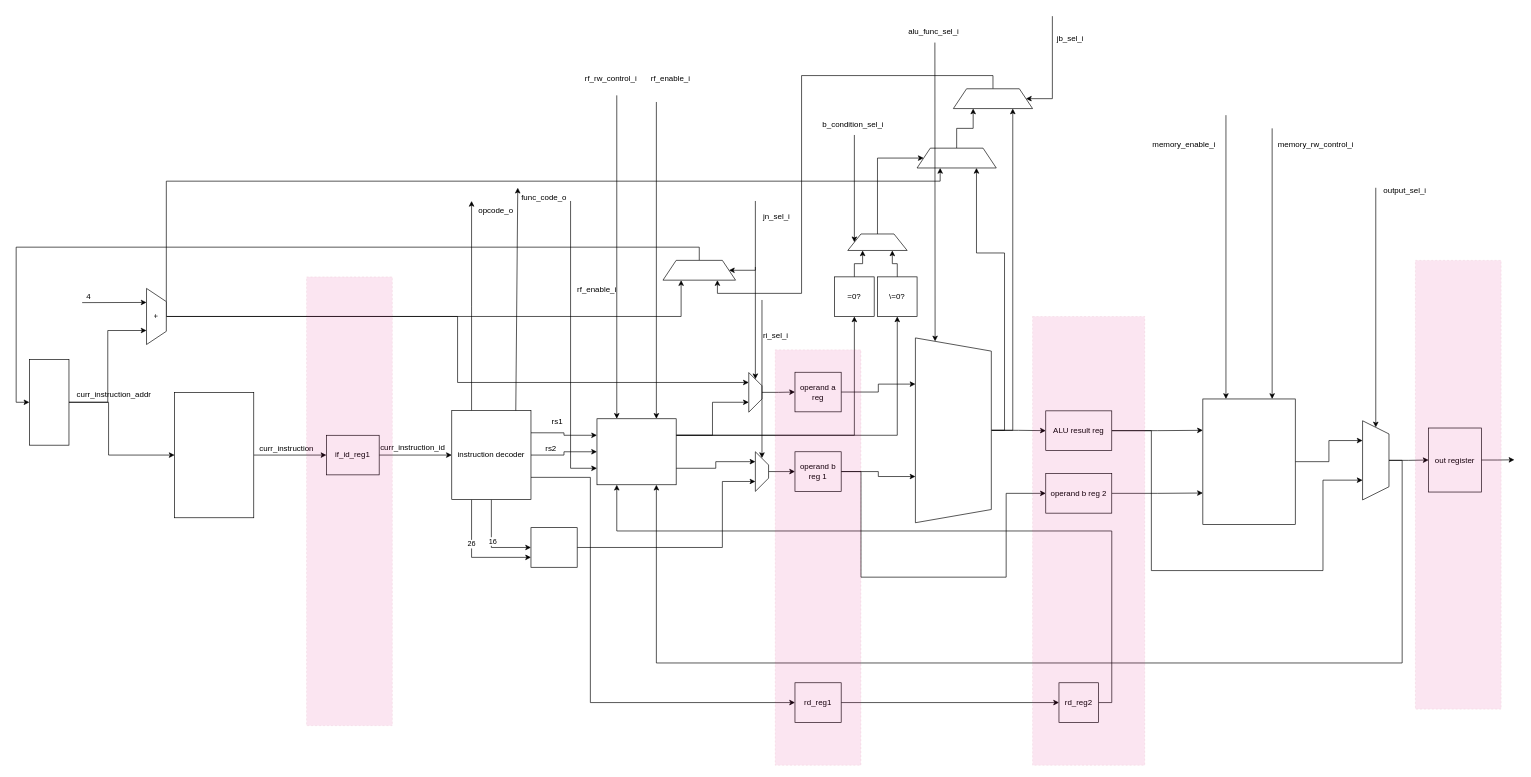
The diagram is 1531 pixels wide and 777 high, and some of its shapes have lost their labels. The centre of each missing label's shape, as x and y in pixels:
"ALU" goes at [953,430].
"data memory" goes at [1248,461].
"imm_ext" goes at [553,547].
"instruction memory" goes at [214,455].
"PC reg" goes at [49,402].
"register file" goes at [636,451].
